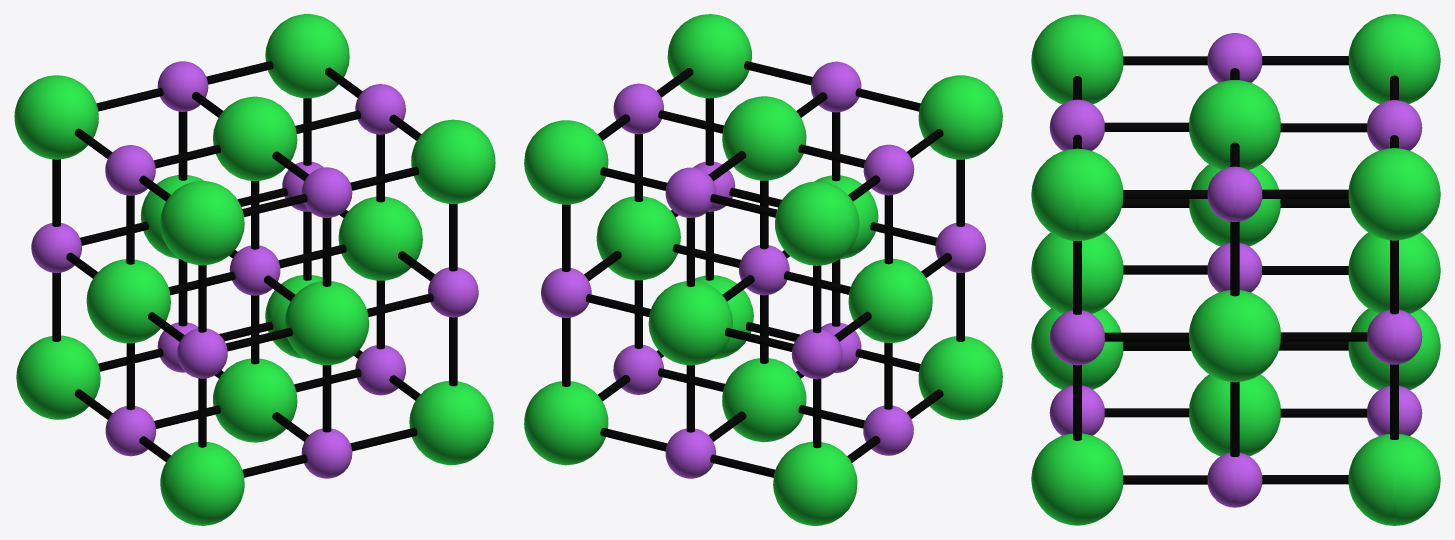
File: nacl_writing_no.gltf
3 renders of one model, left to right at view 1: azimuth 30°, elevation 25°; view 2: azimuth 150°, elevation 25°; view 3: azimuth 270°, elevation 25°, orthographic. The views are drawn at different scales.
Parts seen in each view (by area): view 1: NaCl Network; view 2: NaCl Network; view 3: NaCl Network.
Part boxes in pixels (x1=…): NaCl Network: x1=14, y1=14, x2=495, y2=525; NaCl Network: x1=524, y1=14, x2=1002, y2=525; NaCl Network: x1=1031, y1=14, x2=1440, y2=525.
Size of the model in its own units: 8.9 by 8.83 by 8.84.
